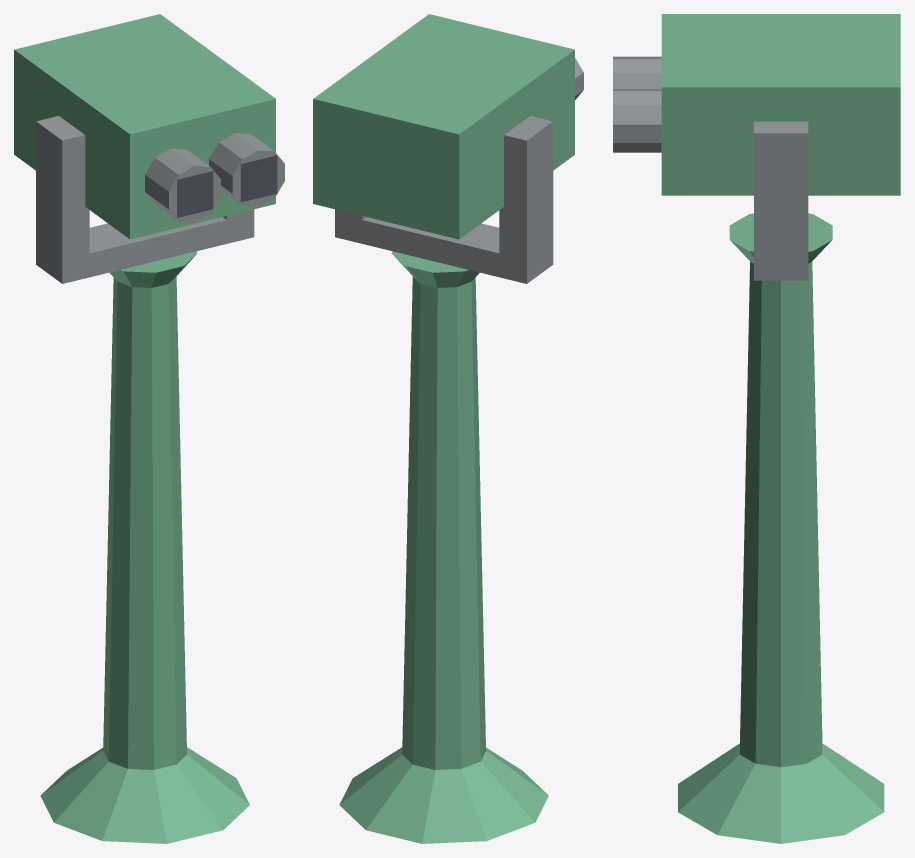
Rendered from fv_viewer.glb.
The picture shows the model from 3 angles, left to right: view 1: azimuth 30°, elevation 25°; view 2: azimuth 150°, elevation 25°; view 3: azimuth 270°, elevation 25°; orthographic projection. The views are drawn at different scales.
Visible parts, largest first — view 1: fv_viewer; view 2: fv_viewer; view 3: fv_viewer.
Part boxes in pixels (x1,y1,x2,y2): fv_viewer: [14, 14, 284, 843]; fv_viewer: [313, 14, 583, 843]; fv_viewer: [613, 14, 900, 843].
Size of the model in its own units: 0.42 by 1.52 by 0.5309.
